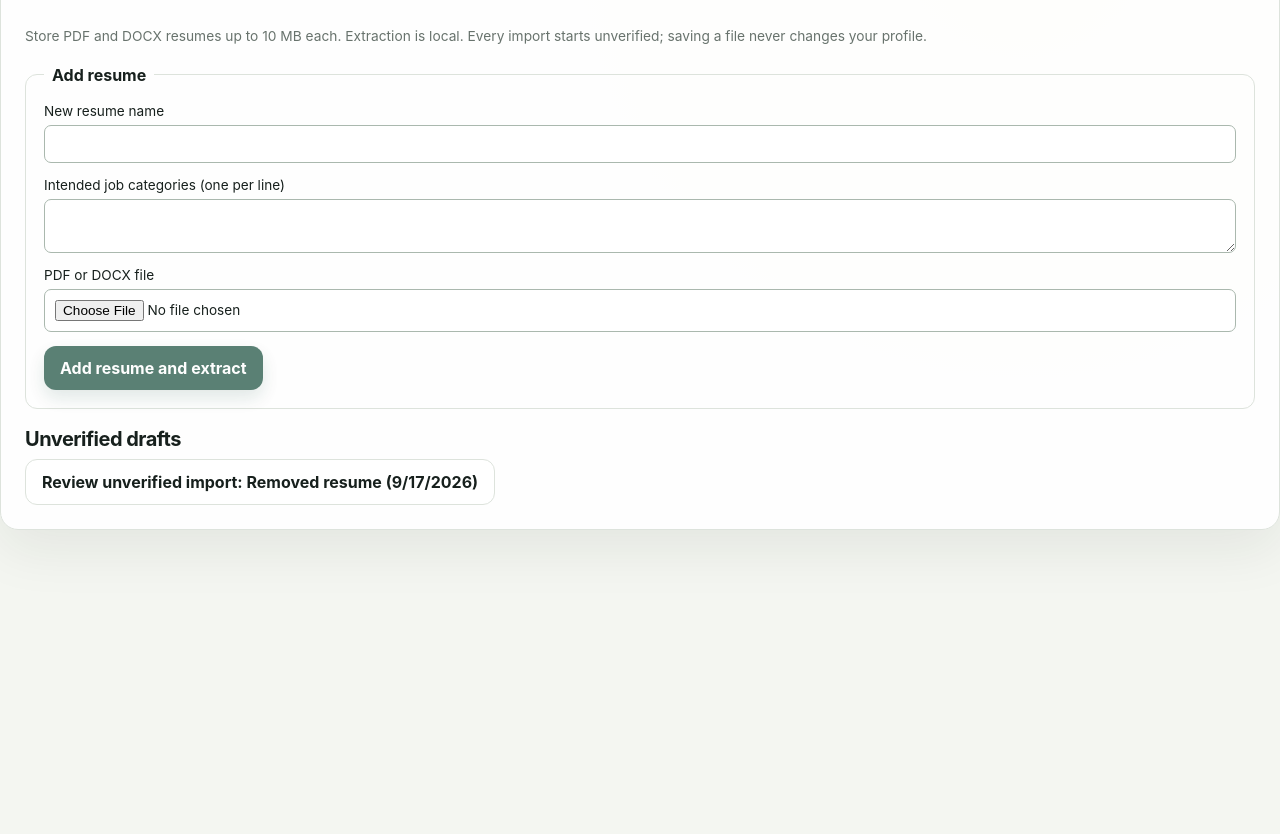
resume management UI integration › renders friendly indexed labels, long values, and provenance without UUIDs
The image size is (1280, 834).
Click the button "Review unverified import: Removed resume (9/17/2026)" at (260, 482), box 25,459 -> 495,505
(page scrolled)
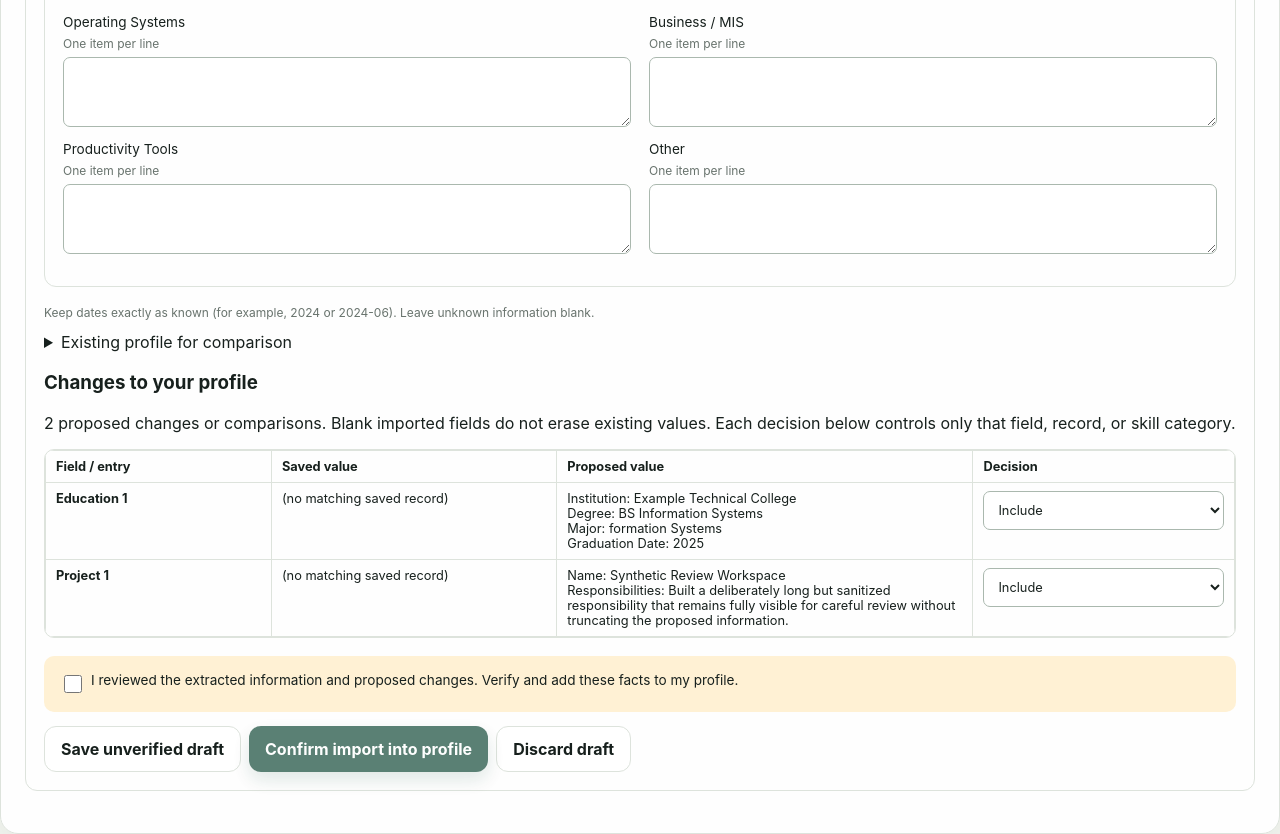
Now the column heading "Decision" is shown, box 973,450 -> 1234,482
